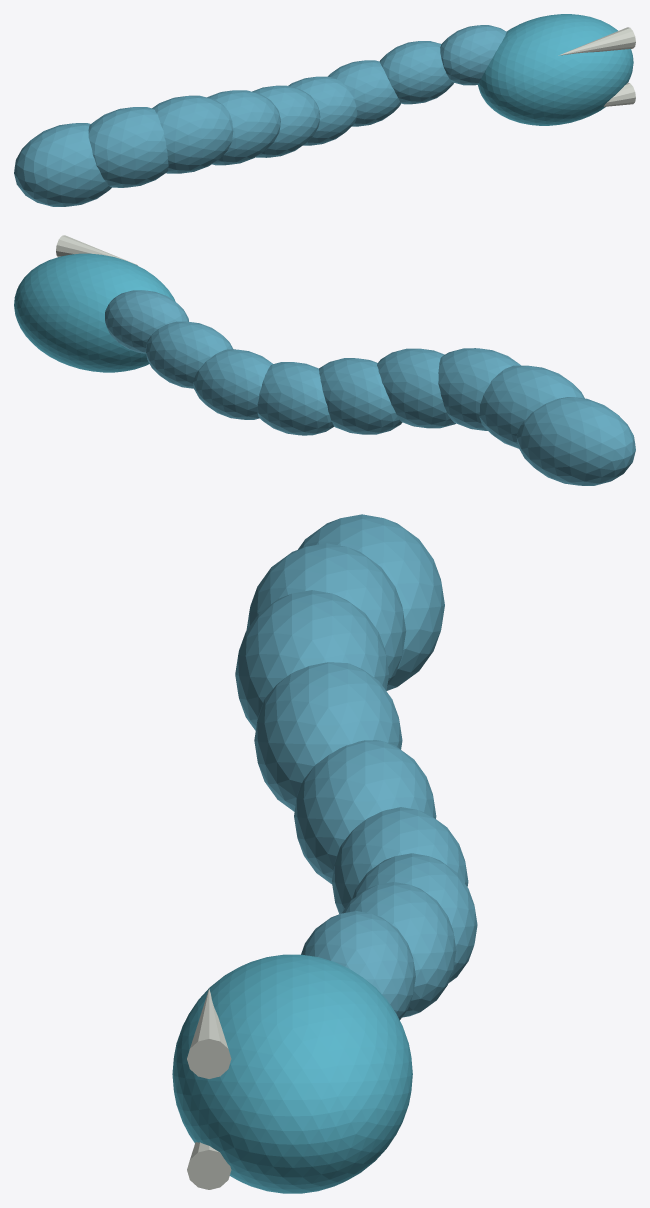
The model's file is water_dragon_serpent_boss_blockout.glb.
3 views of the same model, one above another, from view 1: azimuth 30°, elevation 25°; view 2: azimuth 150°, elevation 25°; view 3: azimuth 270°, elevation 25° (orthographic). The views are drawn at different scales.
Visible parts, largest first — view 1: water_dragon_serpent_boss_blockout_9, water_dragon_serpent_boss_blockout_0, water_dragon_serpent_boss_blockout_1, water_dragon_serpent_boss_blockout_2, water_dragon_serpent_boss_blockout_3, water_dragon_serpent_boss_blockout_7, water_dragon_serpent_boss_blockout_8, water_dragon_serpent_boss_blockout_4, water_dragon_serpent_boss_blockout_6, water_dragon_serpent_boss_blockout_5, water_dragon_serpent_boss_blockout_11, water_dragon_serpent_boss_blockout_10; view 2: water_dragon_serpent_boss_blockout_9, water_dragon_serpent_boss_blockout_0, water_dragon_serpent_boss_blockout_4, water_dragon_serpent_boss_blockout_1, water_dragon_serpent_boss_blockout_5, water_dragon_serpent_boss_blockout_3, water_dragon_serpent_boss_blockout_6, water_dragon_serpent_boss_blockout_2, water_dragon_serpent_boss_blockout_7, water_dragon_serpent_boss_blockout_8, water_dragon_serpent_boss_blockout_11; view 3: water_dragon_serpent_boss_blockout_9, water_dragon_serpent_boss_blockout_3, water_dragon_serpent_boss_blockout_2, water_dragon_serpent_boss_blockout_4, water_dragon_serpent_boss_blockout_0, water_dragon_serpent_boss_blockout_1, water_dragon_serpent_boss_blockout_7, water_dragon_serpent_boss_blockout_5, water_dragon_serpent_boss_blockout_8, water_dragon_serpent_boss_blockout_6, water_dragon_serpent_boss_blockout_11, water_dragon_serpent_boss_blockout_10.
Boxes of the visible parts, x1,y1,x2,y2 form: water_dragon_serpent_boss_blockout_9: [478, 14, 633, 125]; water_dragon_serpent_boss_blockout_0: [14, 123, 111, 206]; water_dragon_serpent_boss_blockout_1: [88, 107, 168, 187]; water_dragon_serpent_boss_blockout_2: [152, 95, 233, 173]; water_dragon_serpent_boss_blockout_3: [207, 90, 280, 165]; water_dragon_serpent_boss_blockout_7: [379, 41, 453, 104]; water_dragon_serpent_boss_blockout_8: [440, 25, 506, 85]; water_dragon_serpent_boss_blockout_4: [252, 85, 320, 157]; water_dragon_serpent_boss_blockout_6: [328, 60, 400, 126]; water_dragon_serpent_boss_blockout_5: [288, 76, 357, 145]; water_dragon_serpent_boss_blockout_11: [558, 27, 635, 55]; water_dragon_serpent_boss_blockout_10: [604, 83, 635, 106]; water_dragon_serpent_boss_blockout_9: [14, 253, 175, 372]; water_dragon_serpent_boss_blockout_0: [516, 397, 635, 485]; water_dragon_serpent_boss_blockout_4: [319, 358, 402, 434]; water_dragon_serpent_boss_blockout_1: [479, 365, 584, 448]; water_dragon_serpent_boss_blockout_5: [257, 362, 334, 435]; water_dragon_serpent_boss_blockout_3: [377, 348, 455, 428]; water_dragon_serpent_boss_blockout_6: [193, 349, 272, 419]; water_dragon_serpent_boss_blockout_2: [438, 348, 520, 430]; water_dragon_serpent_boss_blockout_7: [145, 321, 233, 388]; water_dragon_serpent_boss_blockout_8: [105, 290, 188, 353]; water_dragon_serpent_boss_blockout_11: [56, 235, 137, 265]; water_dragon_serpent_boss_blockout_9: [172, 954, 412, 1193]; water_dragon_serpent_boss_blockout_3: [254, 662, 402, 811]; water_dragon_serpent_boss_blockout_2: [235, 590, 388, 730]; water_dragon_serpent_boss_blockout_4: [294, 740, 436, 884]; water_dragon_serpent_boss_blockout_0: [298, 514, 444, 690]; water_dragon_serpent_boss_blockout_1: [246, 543, 405, 685]; water_dragon_serpent_boss_blockout_7: [342, 882, 456, 1017]; water_dragon_serpent_boss_blockout_5: [332, 807, 468, 913]; water_dragon_serpent_boss_blockout_8: [301, 911, 415, 1020]; water_dragon_serpent_boss_blockout_6: [351, 853, 477, 982]; water_dragon_serpent_boss_blockout_11: [187, 988, 231, 1078]; water_dragon_serpent_boss_blockout_10: [187, 1142, 231, 1189].
Bounding box in the file's own units: 4.92 × 0.8275 × 1.1.
